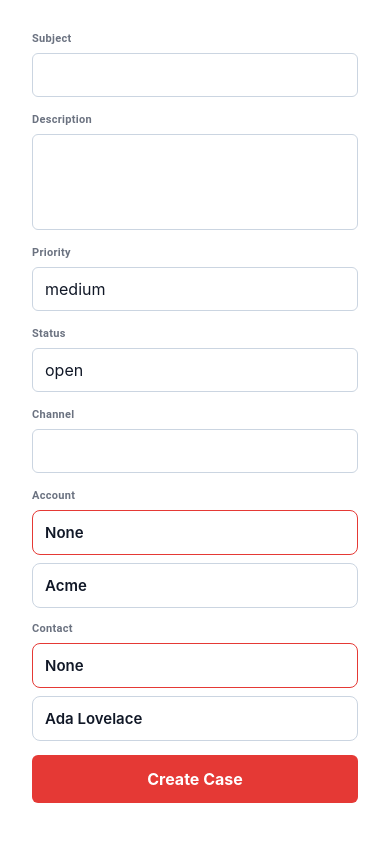
Test: CRM case forms › validates required subject before create submit
Click the element with test id "crm-case-form-submit": (195, 779) [32,755,358,803]
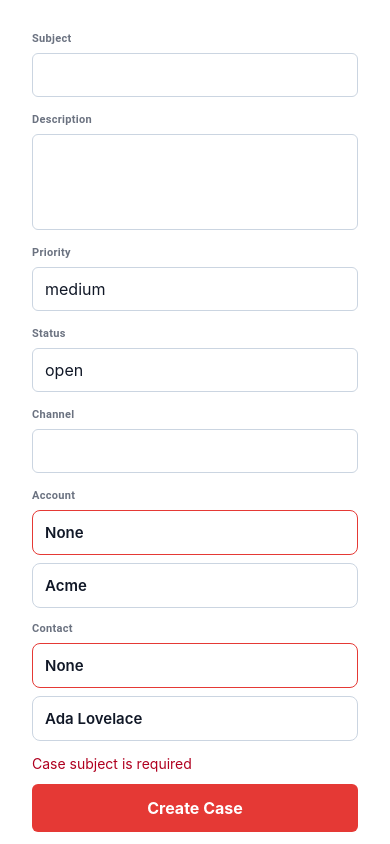
Now the text "Case subject is required" is shown, box [32,755,192,772]
